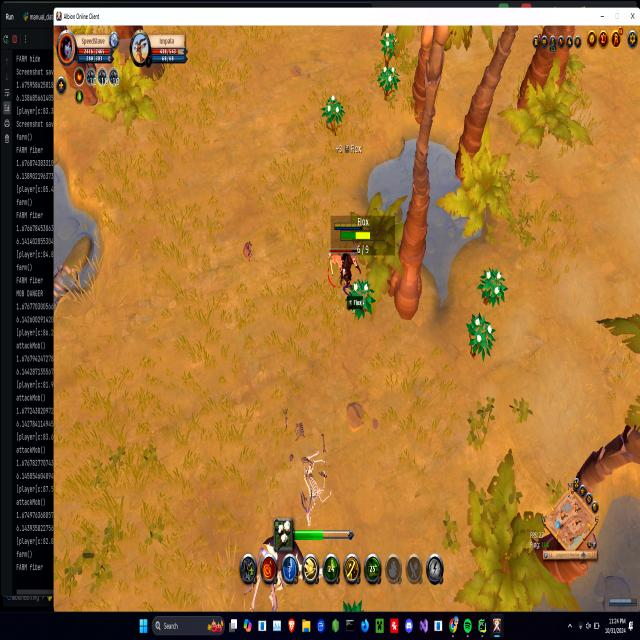hide: (467, 310, 495, 361), (480, 265, 506, 310), (348, 277, 373, 322), (322, 93, 343, 130), (378, 62, 398, 97), (379, 29, 396, 60)
ore: (326, 244, 361, 286)
red: (333, 220, 364, 296)
